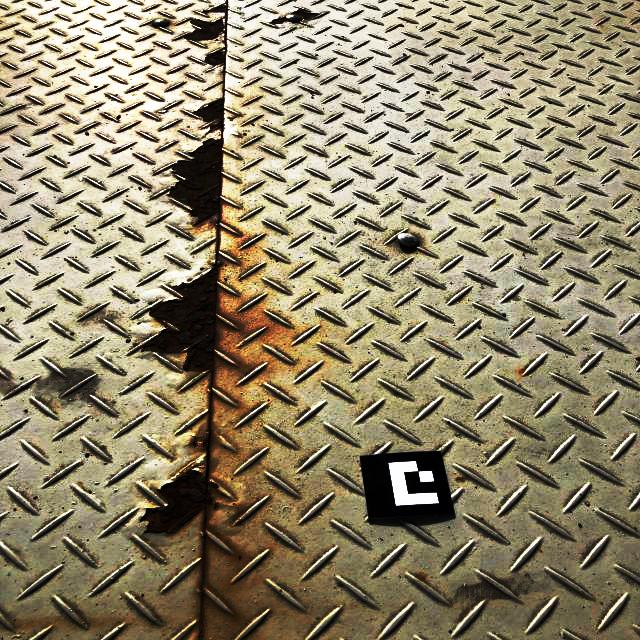Corrosion: (145, 266, 217, 371), (140, 470, 211, 535), (169, 138, 221, 224), (185, 18, 223, 41), (193, 98, 223, 122), (289, 8, 321, 20), (190, 431, 210, 449), (204, 50, 225, 67), (197, 2, 227, 13), (206, 119, 224, 136), (269, 16, 289, 25)
